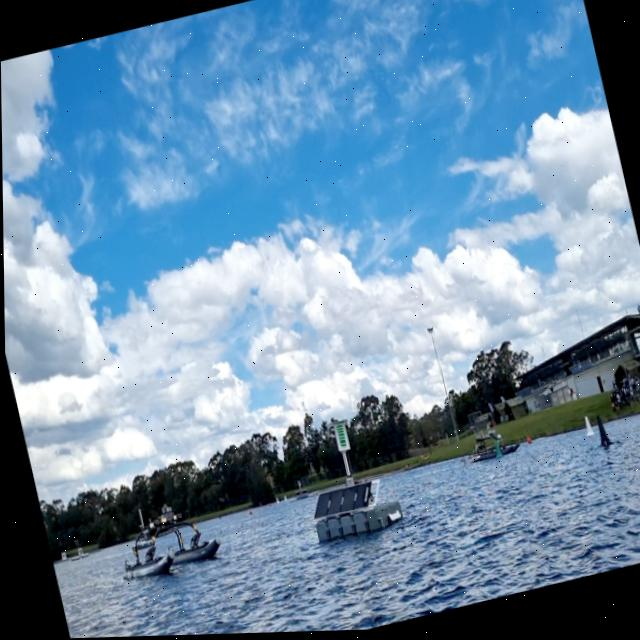led: (332, 425, 347, 452)
